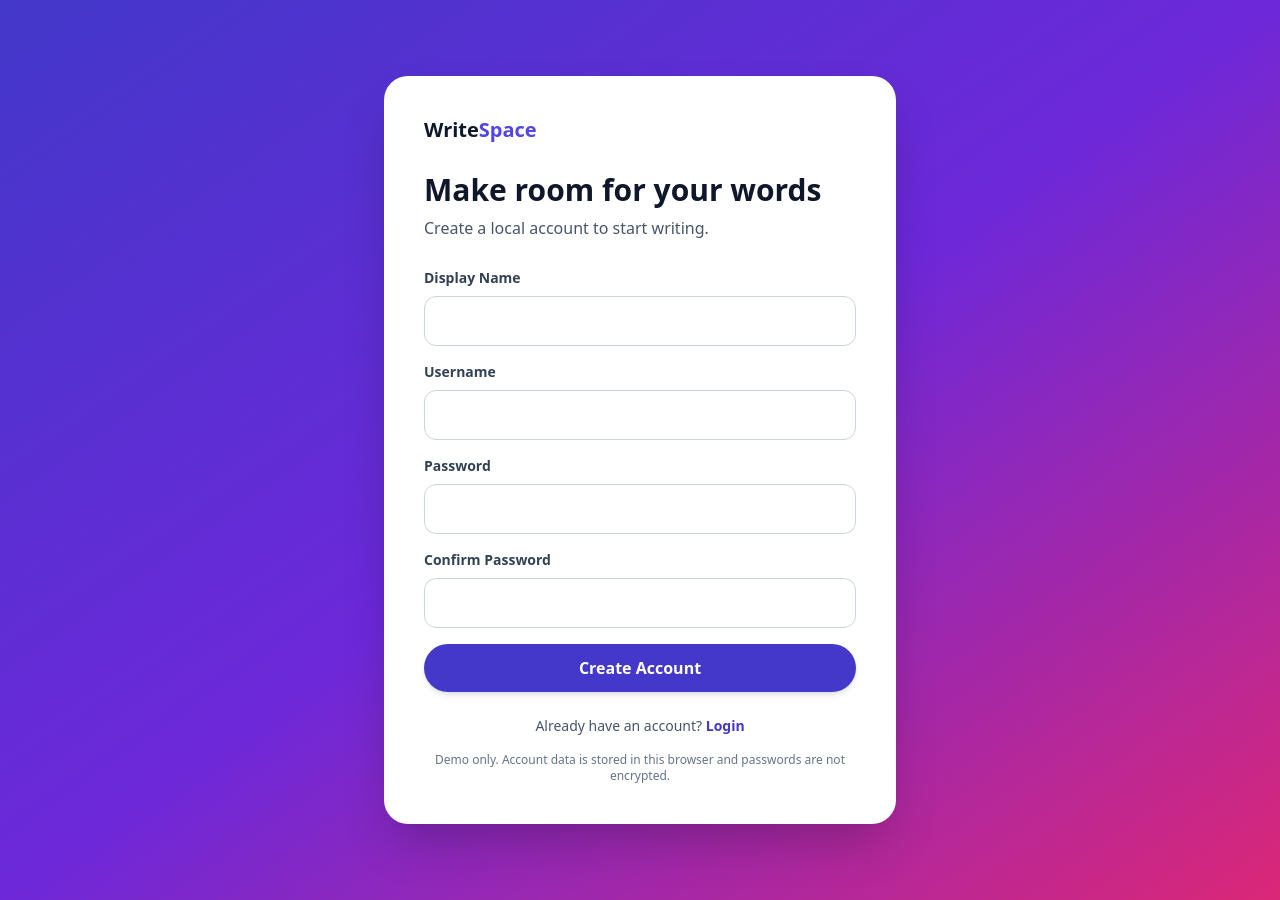
public and identity pages › shows a registration password mismatch error
Type "Rae Writer" into the field labelled "Display Name". click: (640, 321)
box: [424, 296, 856, 346]
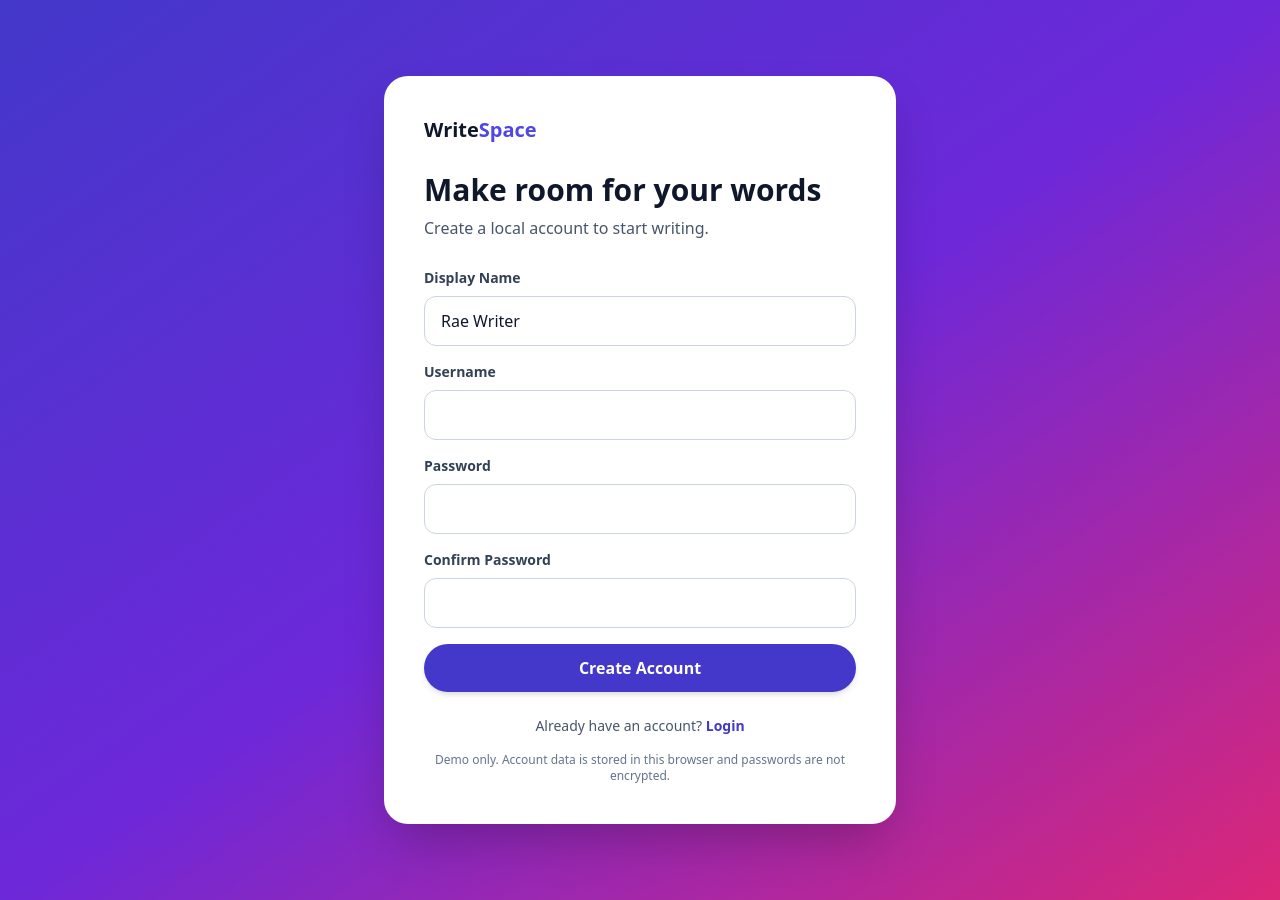
Type "rae" into the field labelled "Username". click: (640, 415)
box: [424, 390, 856, 440]
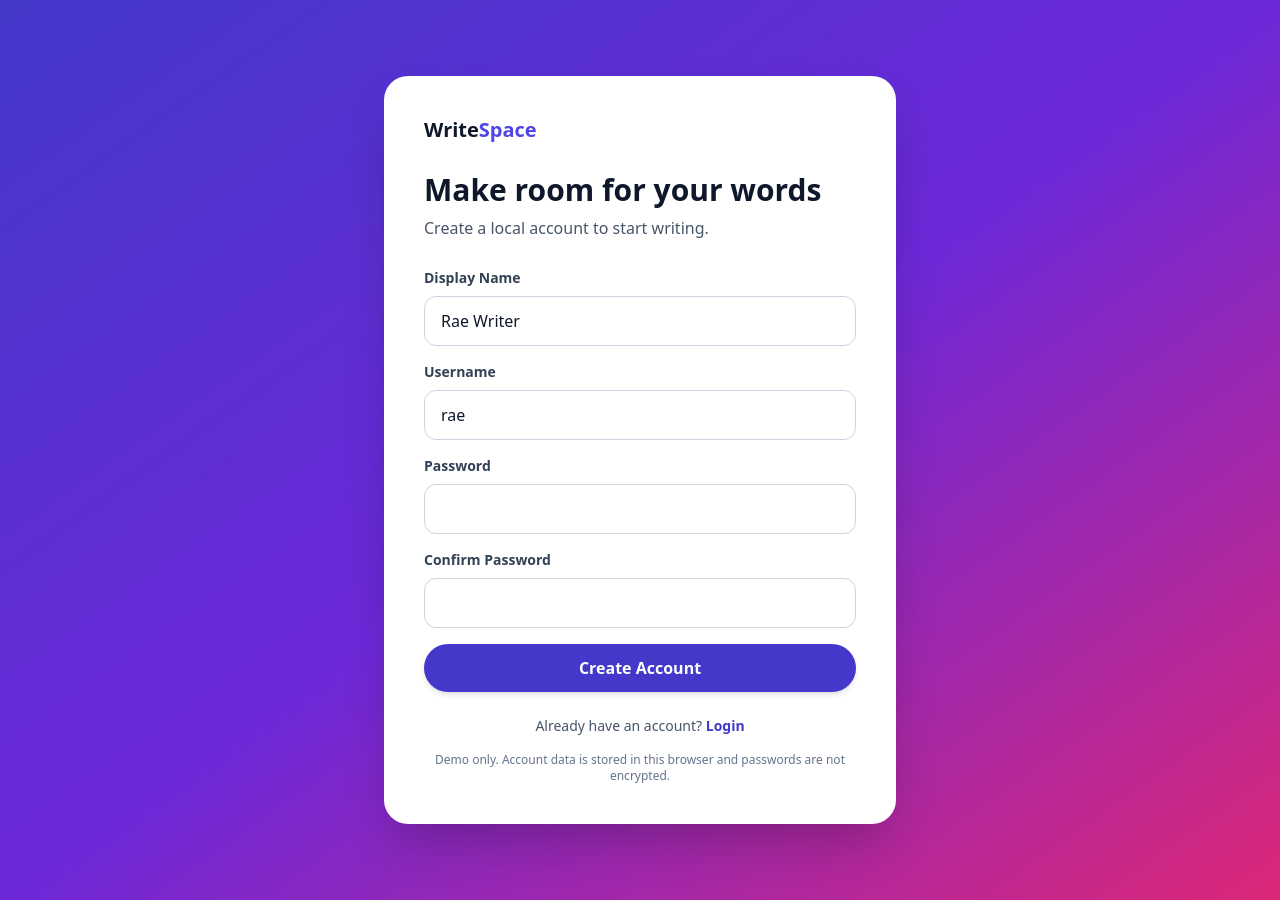
Type "secret-one" into the password field labelled "Password". click: (640, 509)
box: [424, 484, 856, 534]
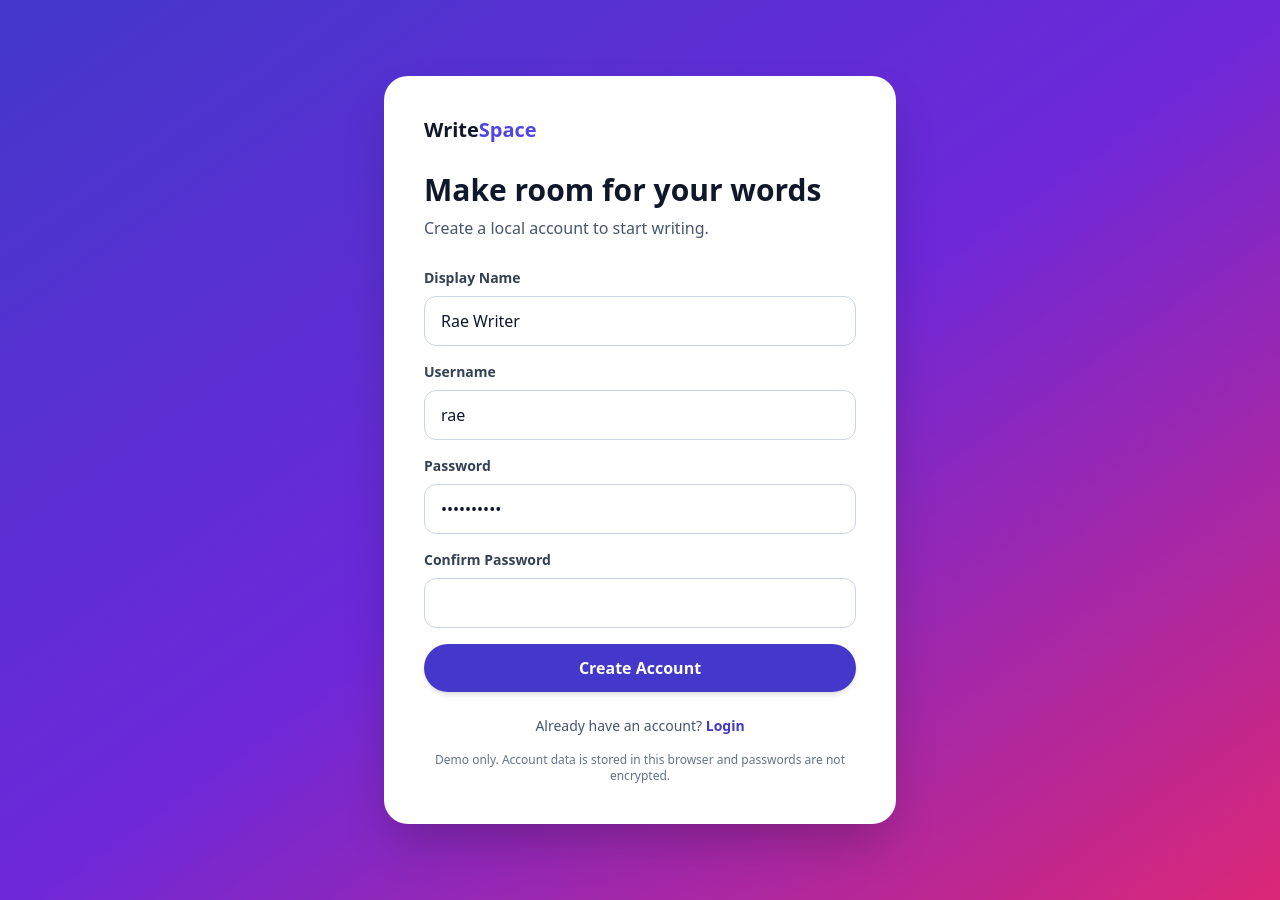
Type "secret-two" into the password field labelled "Confirm Password". click: (640, 603)
box: [424, 578, 856, 628]
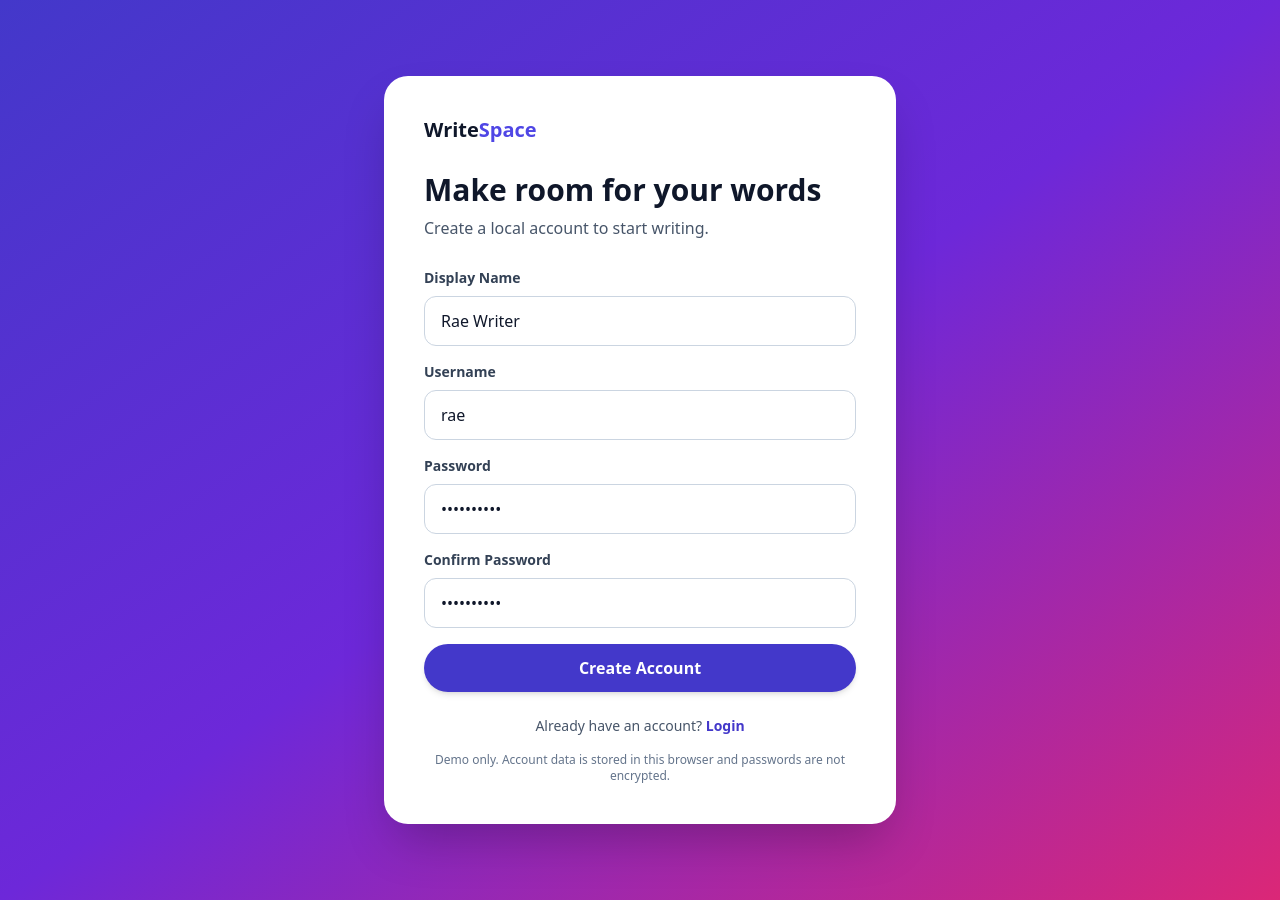
Click the button "Create Account". click: (640, 668)
box: [424, 644, 856, 692]
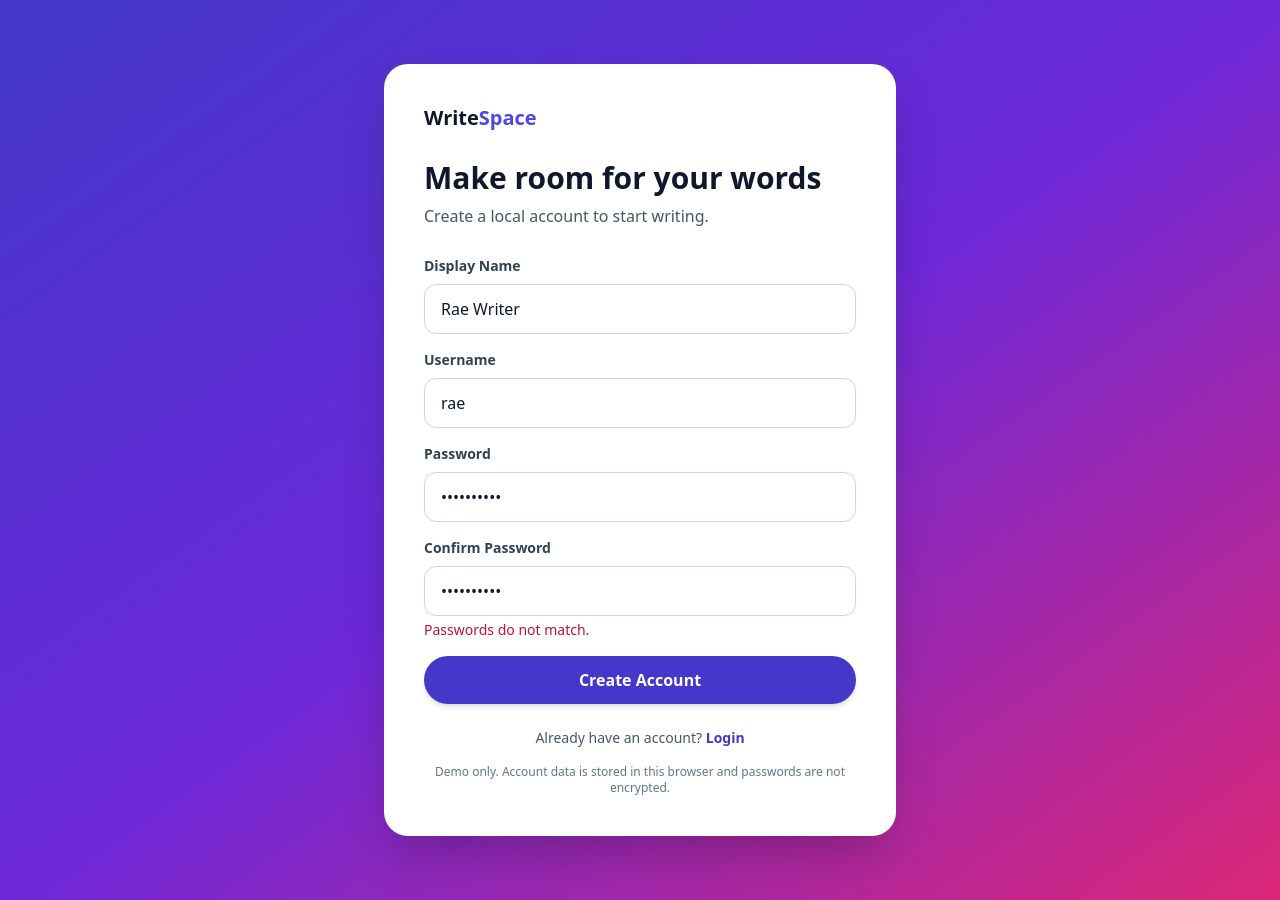
Expected: the text "Passwords do not match." is shown, [424, 620, 589, 639]
